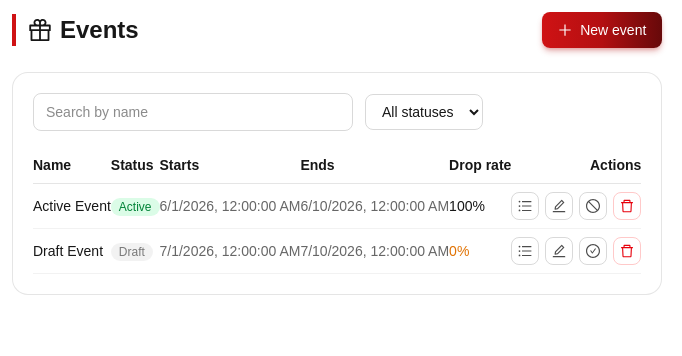
Test: shows error when toggle fails
Expected: the text "Active Event" is shown, [33,184,111,228]
Click the button named "Deactivate" at (593, 206), box [579,192,607,220]
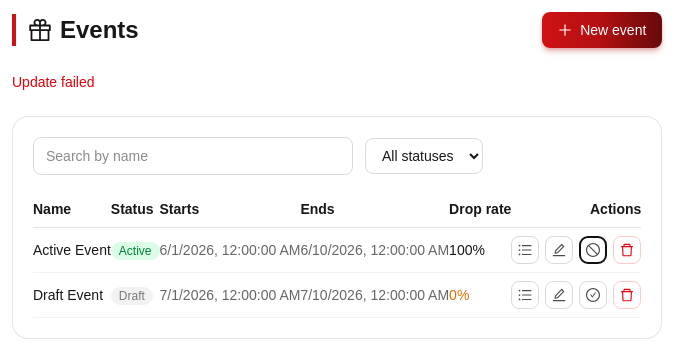
Now the text "Update failed" is shown, box [12,74,94,90]
